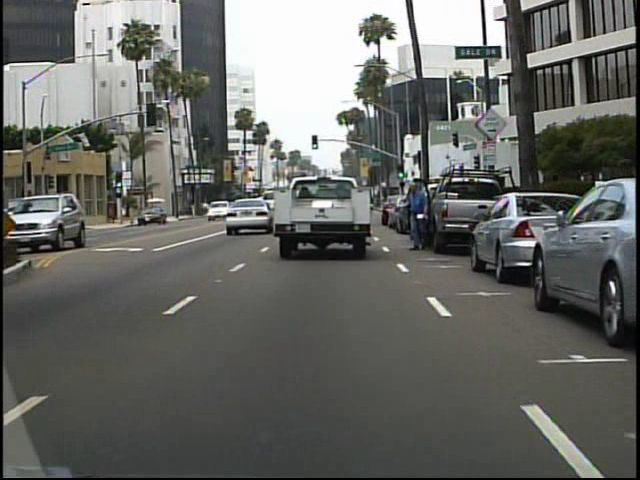person: (403, 180, 431, 252)
